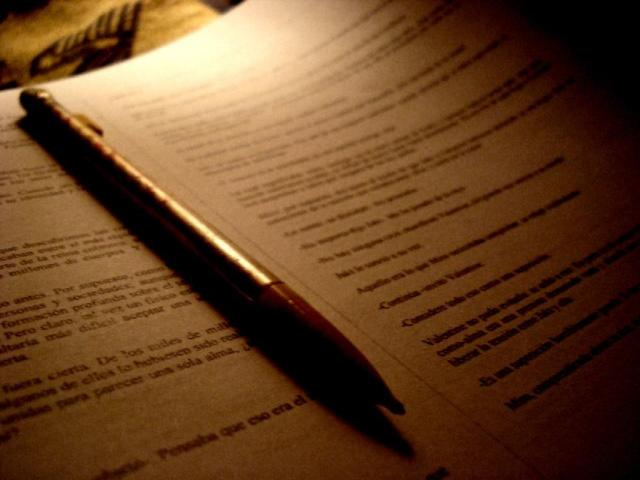PEN: (15, 84, 421, 445)
